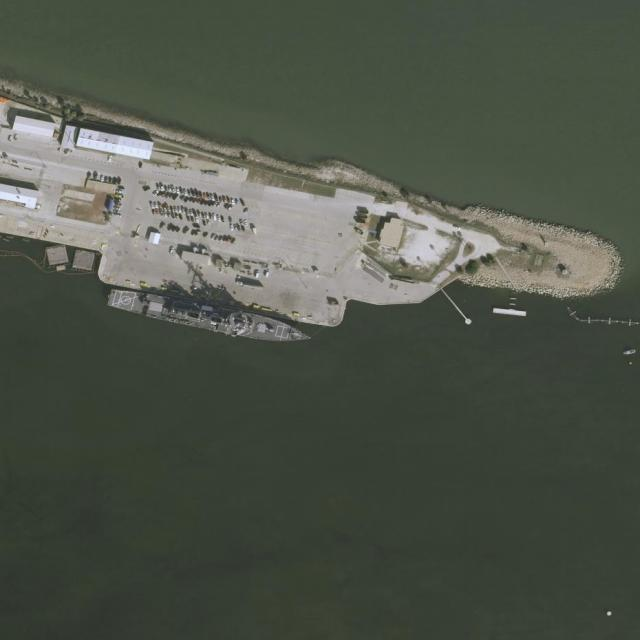Destroyer: (105, 286, 313, 350)
